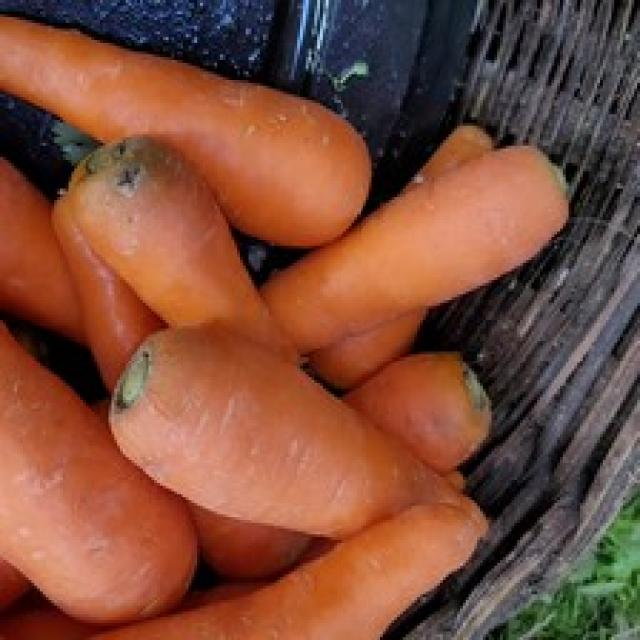Fresh_Carrot: (0, 17, 358, 243), (120, 322, 477, 518), (262, 137, 577, 354), (0, 323, 196, 632), (92, 504, 473, 640)
